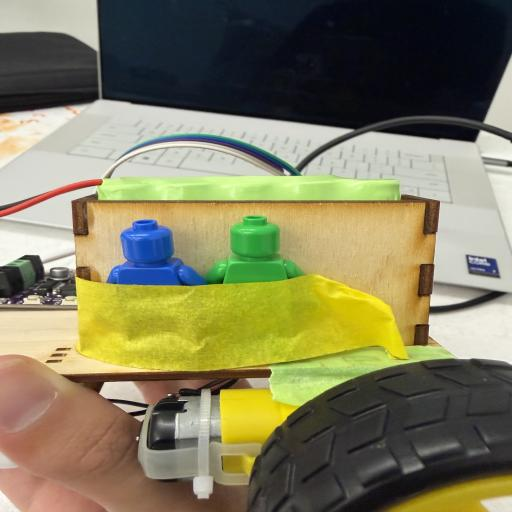Blue-Lego: (106, 219, 206, 286)
Green-Lego: (205, 215, 304, 284)
